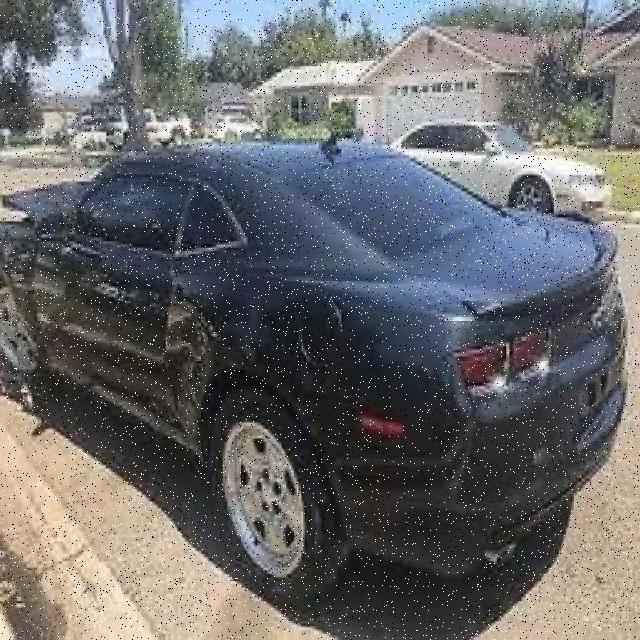damage: (140, 285, 222, 445)
